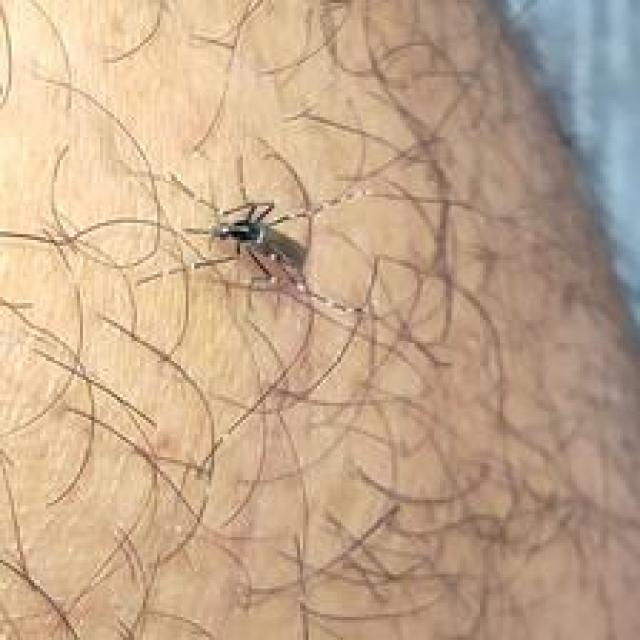Aedes albopictus: (208, 200, 308, 289)
